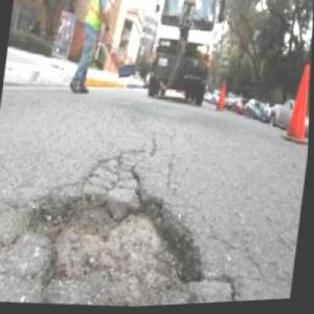Hueco: (16, 176, 220, 312)
